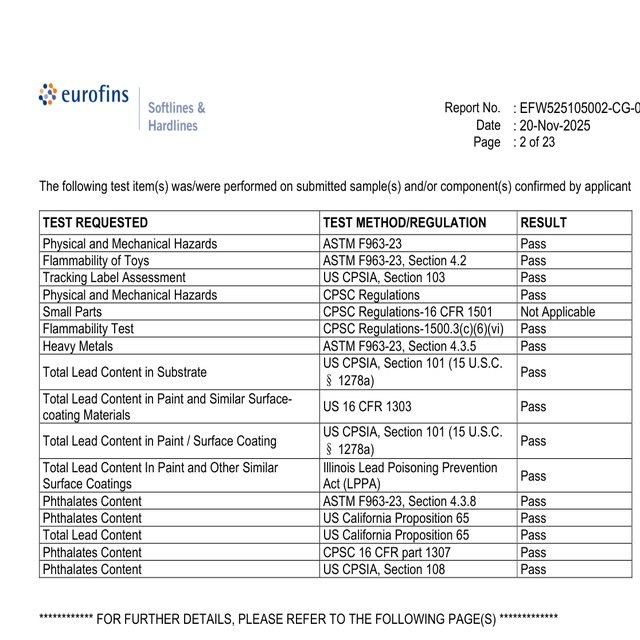eurofins: (33, 77, 132, 114)
